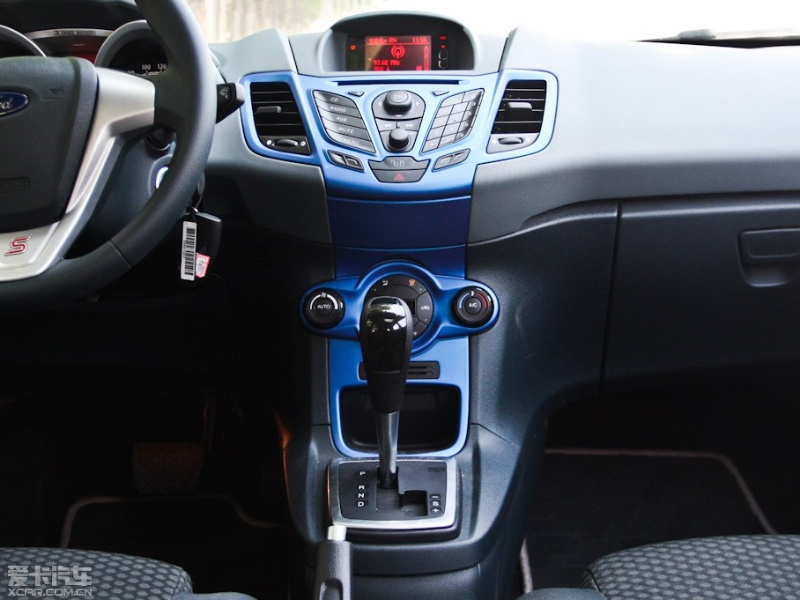control_center: (234, 12, 563, 298)
gear_lever: (290, 275, 502, 600)
odometer: (19, 17, 213, 84)
steering_wheel: (1, 23, 277, 321)
